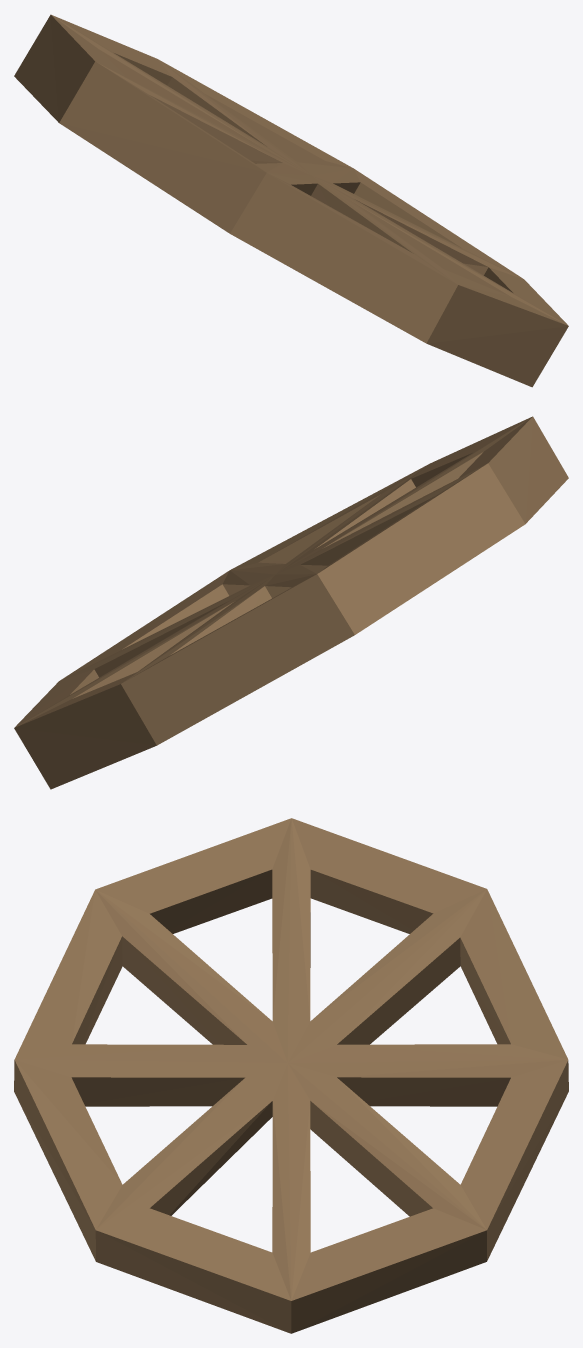
The model's file is wheel.fbx.
The picture shows the model from 3 angles, top to bottom: view 1: azimuth 30°, elevation 25°; view 2: azimuth 150°, elevation 25°; view 3: azimuth 270°, elevation 25°; orthographic projection. The views are drawn at different scales.
Parts seen in each view (by area): view 1: wheel; view 2: wheel; view 3: wheel.
Part boxes in pixels (left/top/right/bottom): wheel: left=14, top=14, right=568, bottom=387; wheel: left=14, top=416, right=568, bottom=789; wheel: left=14, top=818, right=568, bottom=1333.
Bounding box in the file's own units: 290 × 224 × 330.
